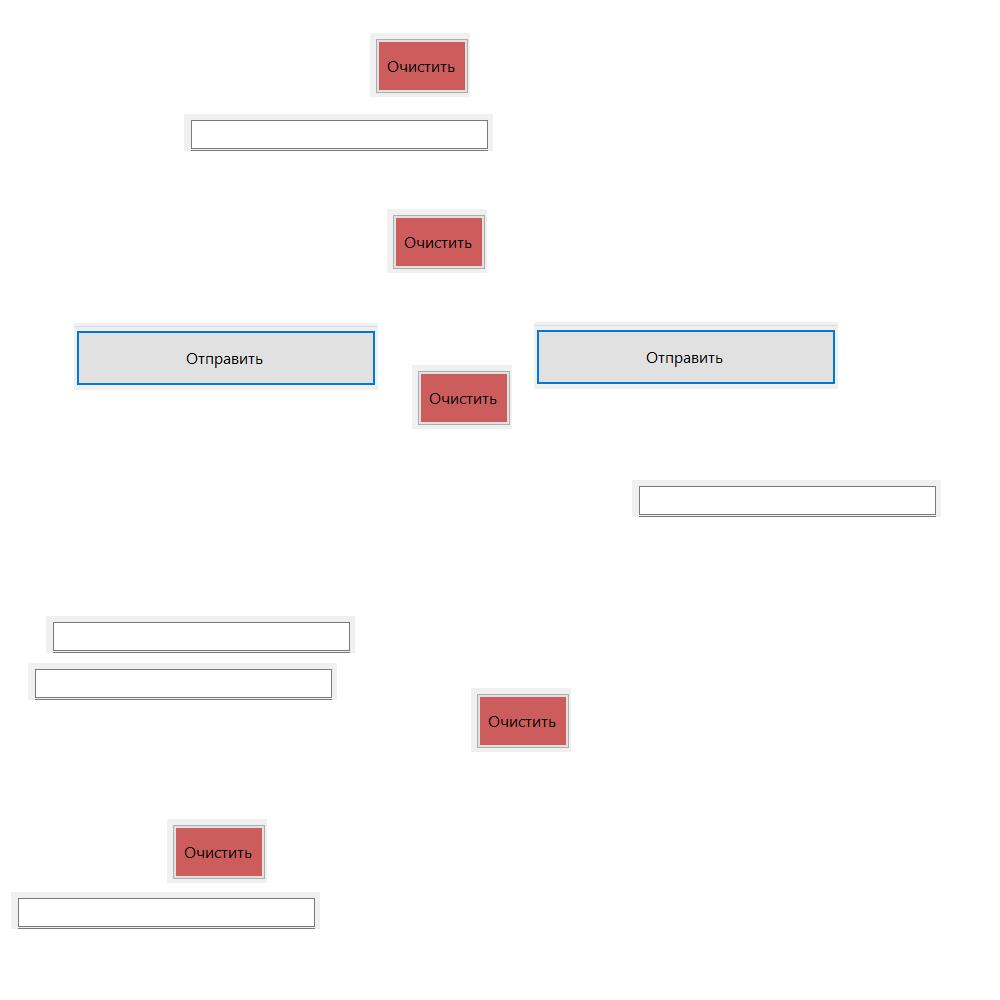Button: (534, 322, 838, 389), (74, 323, 378, 390), (167, 819, 267, 883), (471, 688, 571, 752), (370, 33, 470, 97), (387, 209, 487, 273), (412, 365, 512, 429)
EditText-: (46, 616, 355, 653), (184, 114, 493, 151), (28, 663, 337, 700), (632, 480, 941, 517), (11, 892, 320, 929)
